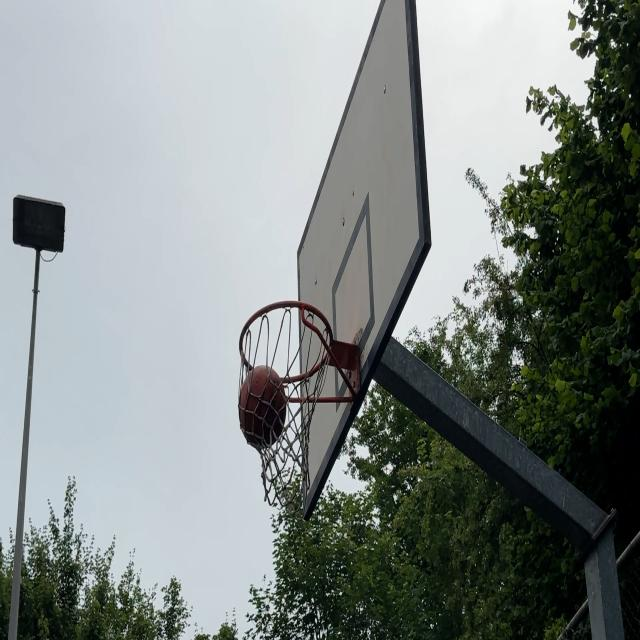Goal: (240, 363, 286, 450)
